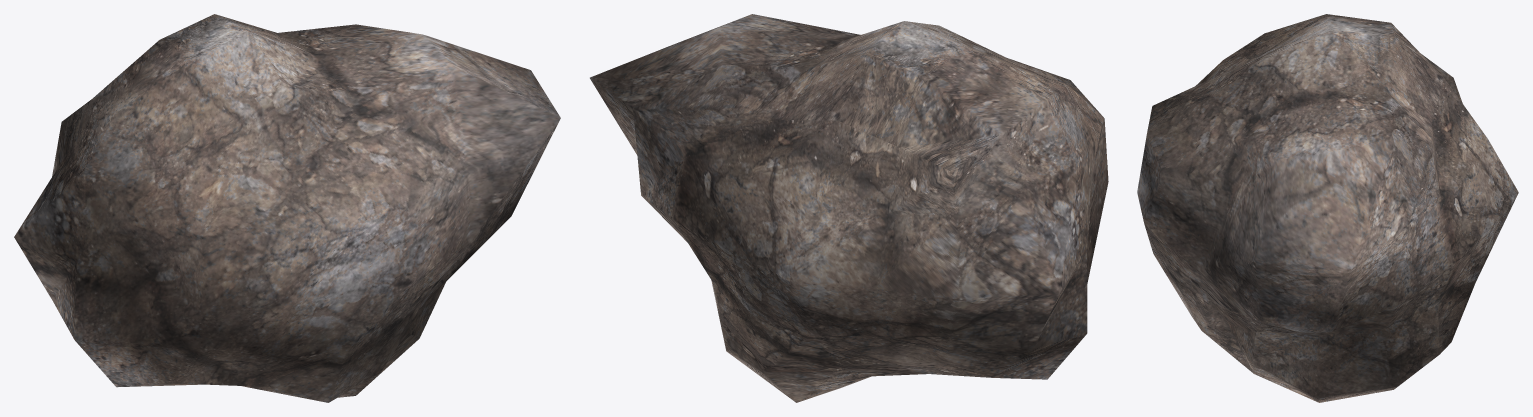
File: Enviro_Rock_A.fbx
The picture shows the model from 3 angles, left to right: view 1: azimuth 30°, elevation 25°; view 2: azimuth 150°, elevation 25°; view 3: azimuth 270°, elevation 25°; orthographic projection. The views are drawn at different scales.
Parts seen in each view (by area): view 1: Enviro_Rock_A; view 2: Enviro_Rock_A; view 3: Enviro_Rock_A.
Boxes of the visible parts, <box> form: Enviro_Rock_A: <box>14,14,560,402</box>; Enviro_Rock_A: <box>590,14,1108,402</box>; Enviro_Rock_A: <box>1137,14,1518,402</box>.
Size of the model in its own units: 288 by 214 by 216.
